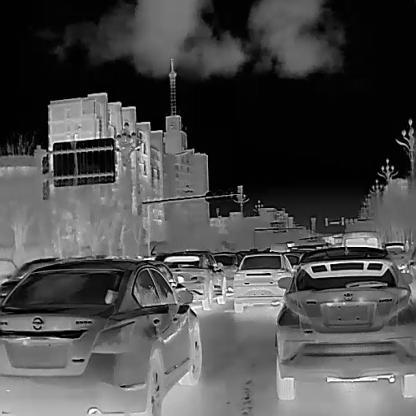car: (0, 254, 202, 415), (275, 250, 416, 398), (161, 247, 226, 312), (232, 254, 292, 312), (339, 229, 382, 250)
